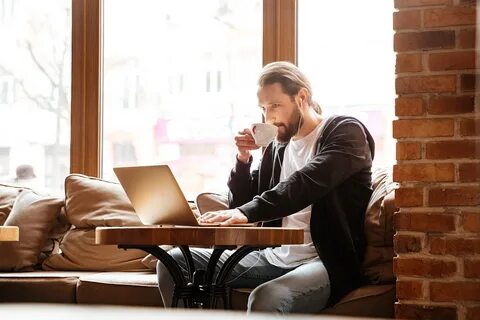awake: (158, 60, 372, 306)
